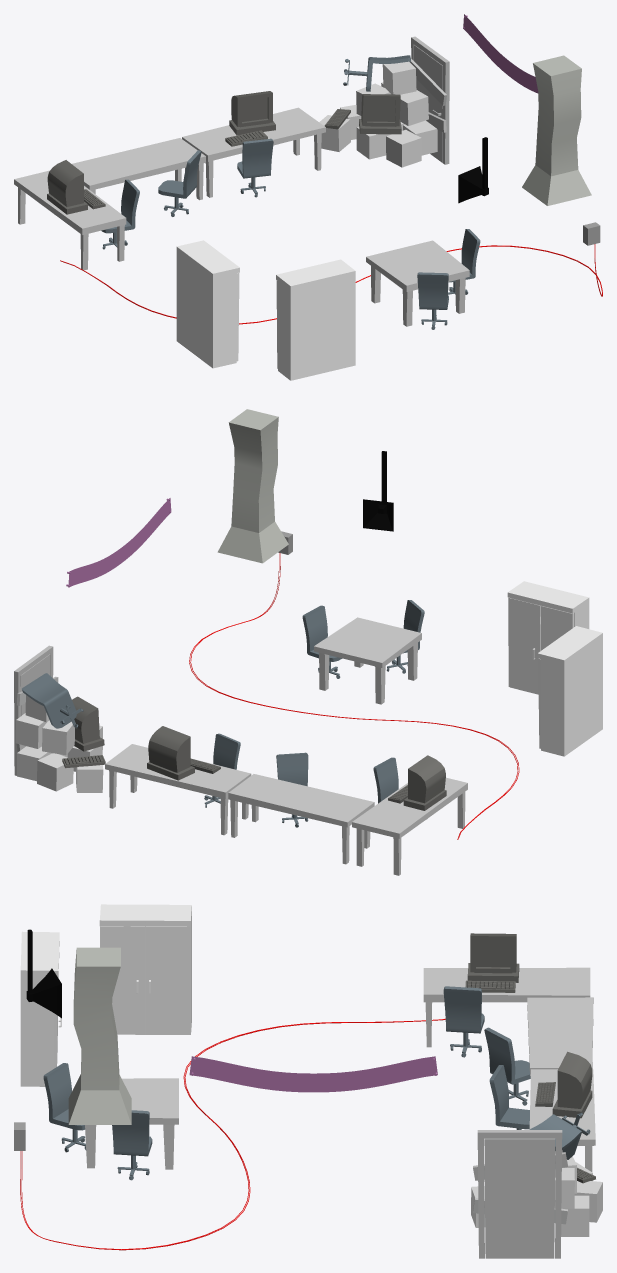
Rendered from mainroomProps.fbx.
3 renders of one model, top to bottom at view 1: azimuth 30°, elevation 25°; view 2: azimuth 150°, elevation 25°; view 3: azimuth 270°, elevation 25°, orthographic. The views are drawn at different scales.
Visible parts, largest first — view 1: bananaChute, locker2, locker6, table, desk2, locker1, desk3, desk1, locker7, monitor2, monitor1, monitor3 (+18 smaller); view 2: bananaChute, locker7, desk2, table, desk3, locker1, desk1, locker6, locker2, monitor2, monitor1, banner (+15 smaller); view 3: blockedDoor, bananaChute, locker7, banner, locker6, desk2, desk1, locker1, table, doorframe1, monitor1, monitor2 (+13 smaller).
Part boxes in pixels (x1=…): bananaChute: x1=522, y1=55, x2=591, y2=205; locker2: x1=276, y1=267, x2=323, y2=380; locker6: x1=194, y1=254, x2=239, y2=368; table: x1=366, y1=240, x2=469, y2=326; desk2: x1=72, y1=138, x2=205, y2=200; locker1: x1=309, y1=259, x2=355, y2=372; desk3: x1=182, y1=107, x2=325, y2=197; desk1: x1=14, y1=170, x2=126, y2=270; locker7: x1=176, y1=240, x2=221, y2=354; monitor2: x1=229, y1=91, x2=275, y2=135; monitor1: x1=47, y1=160, x2=87, y2=214; monitor3: x1=359, y1=94, x2=401, y2=134; bananaChute: x1=217, y1=409, x2=288, y2=563; locker7: x1=537, y1=639, x2=583, y2=756; desk2: x1=228, y1=774, x2=374, y2=864; table: x1=314, y1=617, x2=421, y2=704; desk3: x1=105, y1=744, x2=251, y2=835; locker1: x1=507, y1=581, x2=555, y2=694; desk1: x1=352, y1=777, x2=467, y2=875; locker6: x1=557, y1=626, x2=602, y2=742; locker2: x1=540, y1=589, x2=589, y2=650; monitor2: x1=147, y1=726, x2=194, y2=780; monitor1: x1=403, y1=755, x2=446, y2=810; banner: x1=68, y1=498, x2=171, y2=587; blockedDoor: x1=484, y1=1138, x2=555, y2=1258; bananaChute: x1=68, y1=947, x2=131, y2=1124; locker7: x1=145, y1=904, x2=191, y2=1034; banner: x1=189, y1=1056, x2=437, y2=1092; locker6: x1=99, y1=904, x2=146, y2=1034; desk2: x1=527, y1=997, x2=593, y2=1075; desk1: x1=423, y1=967, x2=590, y2=1047; locker1: x1=20, y1=951, x2=59, y2=1086; table: x1=85, y1=1078, x2=178, y2=1169; doorframe1: x1=477, y1=1130, x2=562, y2=1258; monitor1: x1=467, y1=933, x2=519, y2=982; monitor2: x1=552, y1=1051, x2=592, y2=1118.
Size of the model in its own units: 37.65 by 20.26 by 39.54.
